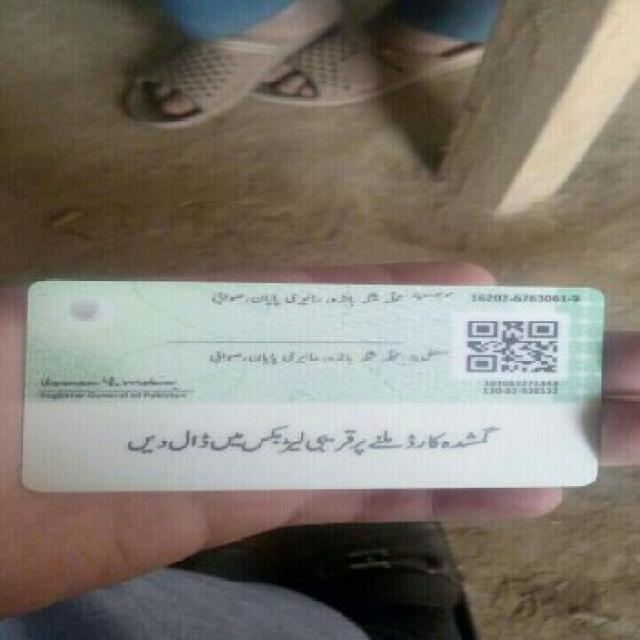Back: (20, 274, 606, 492)
